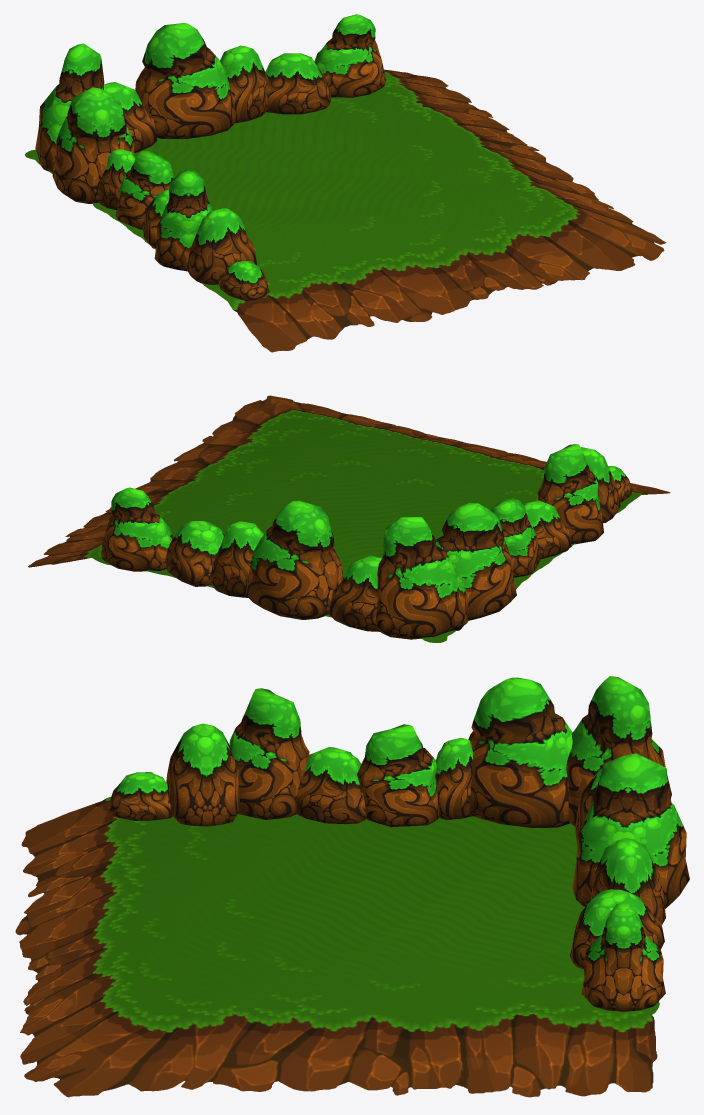
Rendered from Land_02.FBX.
The picture shows the model from 3 angles, top to bottom: view 1: azimuth 30°, elevation 25°; view 2: azimuth 150°, elevation 25°; view 3: azimuth 270°, elevation 25°; orthographic projection. The views are drawn at different scales.
Parts seen in each view (by area): view 1: Land_02, Land_Rock_01a003; view 2: Land_Rock_01a003, Land_02; view 3: Land_02, Land_Rock_01a003.
Boxes of the visible parts, x1,y1,x2,y2 form: Land_02: [25, 69, 666, 352]; Land_Rock_01a003: [35, 14, 385, 301]; Land_Rock_01a003: [101, 444, 632, 639]; Land_02: [28, 395, 670, 642]; Land_02: [15, 796, 659, 1097]; Land_Rock_01a003: [108, 676, 689, 1011].
Size of the model in its own units: 5208 by 1532 by 5300.
